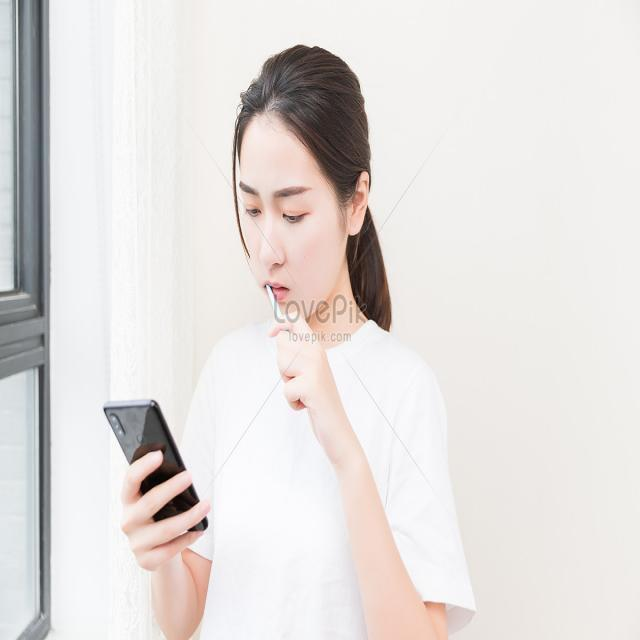Phone: (99, 396, 214, 537)
